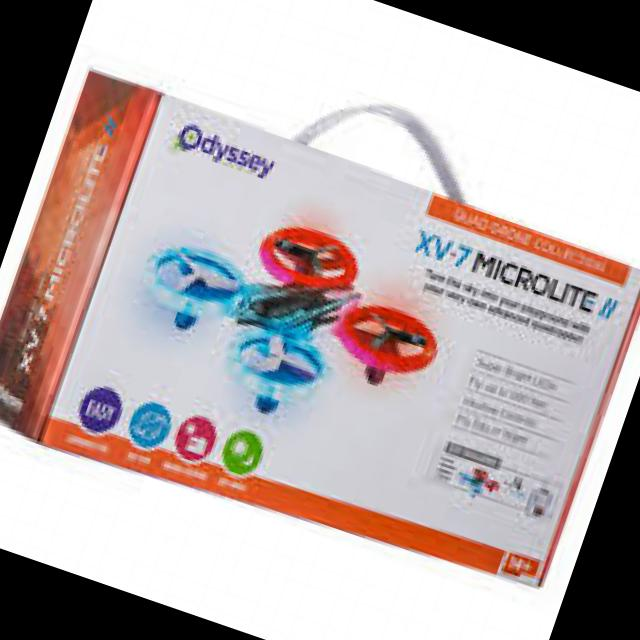drone: (92, 170, 478, 480)
